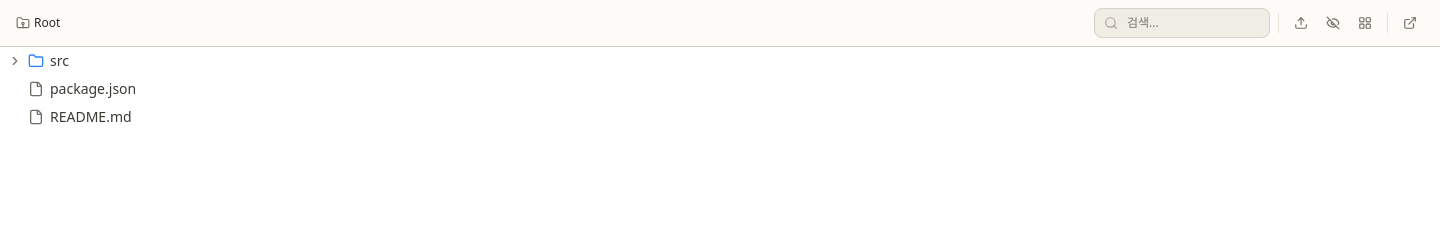
Test: FileExplorerTab › toggles hidden files visibility
Expected: the text "src" is shown, [50,51,69,71]
Expected: the text ".git" is not shown
Note: Click toggle button
Click the button named "숨김 파일 표시": (1333,23) [1319,9,1347,37]
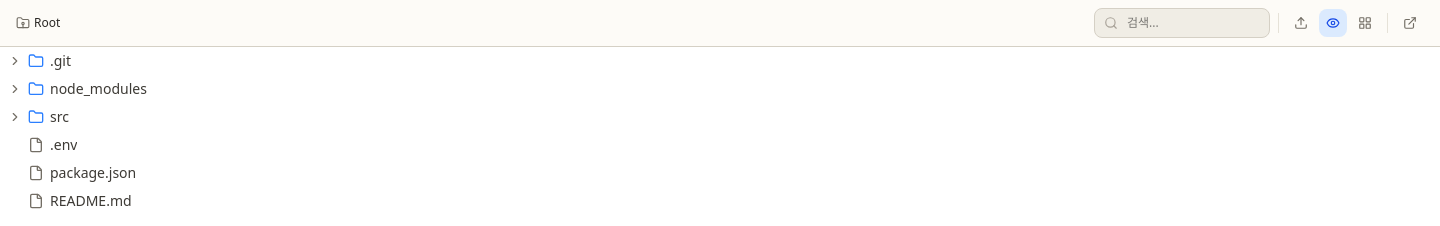
Expected: the text ".git" is shown, [50,51,71,71]
Expected: the text "node_modules" is shown, [50,79,147,99]
